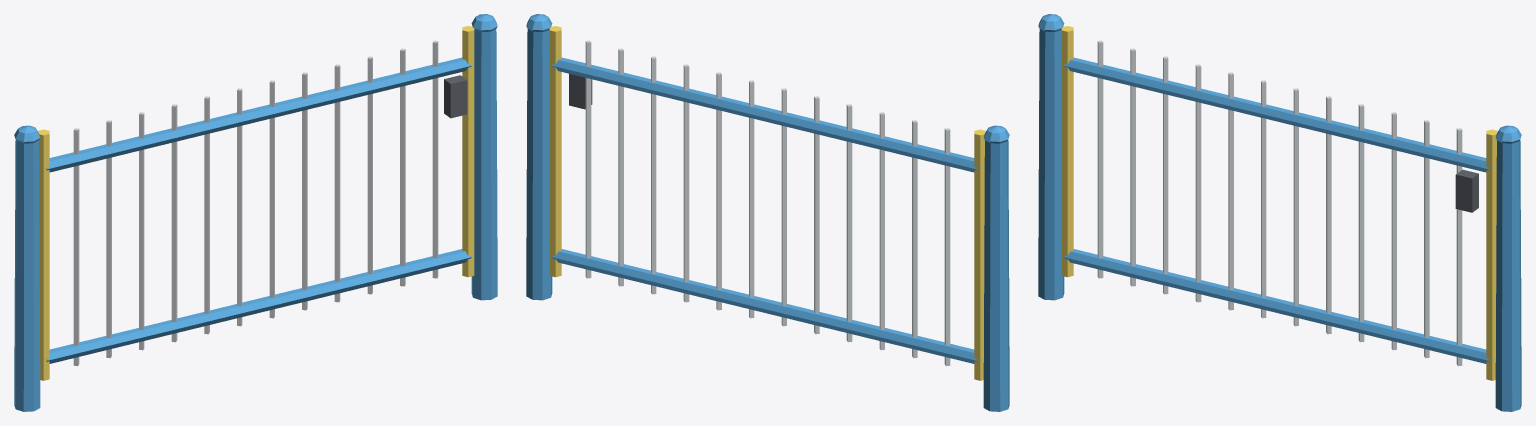
Rendered from 33666-Playground-Fence-Gate-Bay-City-Park-and-Playground.glb.
3 renders of one model, left to right at view 1: azimuth 30°, elevation 25°; view 2: azimuth 150°, elevation 25°; view 3: azimuth 330°, elevation 25°, orthographic.
Visible parts, largest first — view 1: gate/steel, playground-fence-gate-azure, gate/azure, gate/sunflower, gate/charcoal; view 2: gate/steel, playground-fence-gate-azure, gate/azure, gate/sunflower, gate/charcoal; view 3: gate/steel, playground-fence-gate-azure, gate/azure, gate/sunflower, gate/charcoal.
Boxes of the visible parts, left/top/right/bottom form: gate/steel: left=73, top=40, right=438, bottom=366; playground-fence-gate-azure: left=14, top=14, right=497, bottom=411; gate/azure: left=46, top=57, right=471, bottom=363; gate/sunflower: left=38, top=26, right=474, bottom=380; gate/charcoal: left=444, top=75, right=467, bottom=118; gate/steel: left=585, top=40, right=950, bottom=366; playground-fence-gate-azure: left=526, top=14, right=1009, bottom=411; gate/azure: left=552, top=57, right=977, bottom=363; gate/sunflower: left=549, top=26, right=985, bottom=380; gate/charcoal: left=569, top=73, right=592, bottom=109; gate/steel: left=1097, top=40, right=1462, bottom=366; playground-fence-gate-azure: left=1038, top=14, right=1521, bottom=411; gate/azure: left=1064, top=57, right=1489, bottom=363; gate/sunflower: left=1061, top=26, right=1497, bottom=380; gate/charcoal: left=1455, top=169, right=1478, bottom=212.
Bounding box in the file's own units: 2.05 × 1.14 × 0.12.
